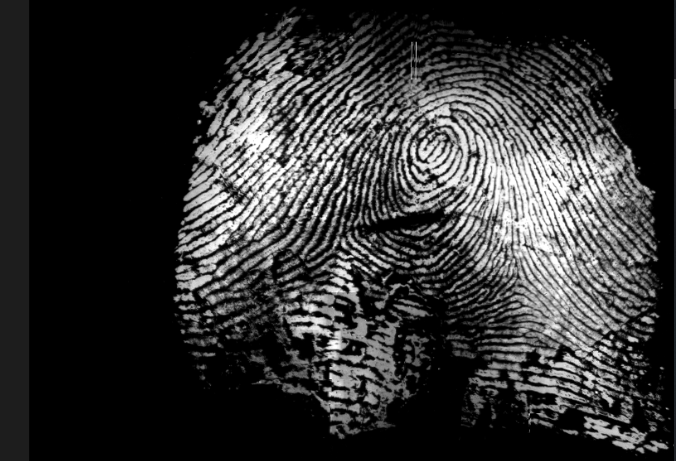nucelo: (413, 124, 456, 165)
verticilo: (319, 228, 355, 260), (502, 262, 534, 296)
